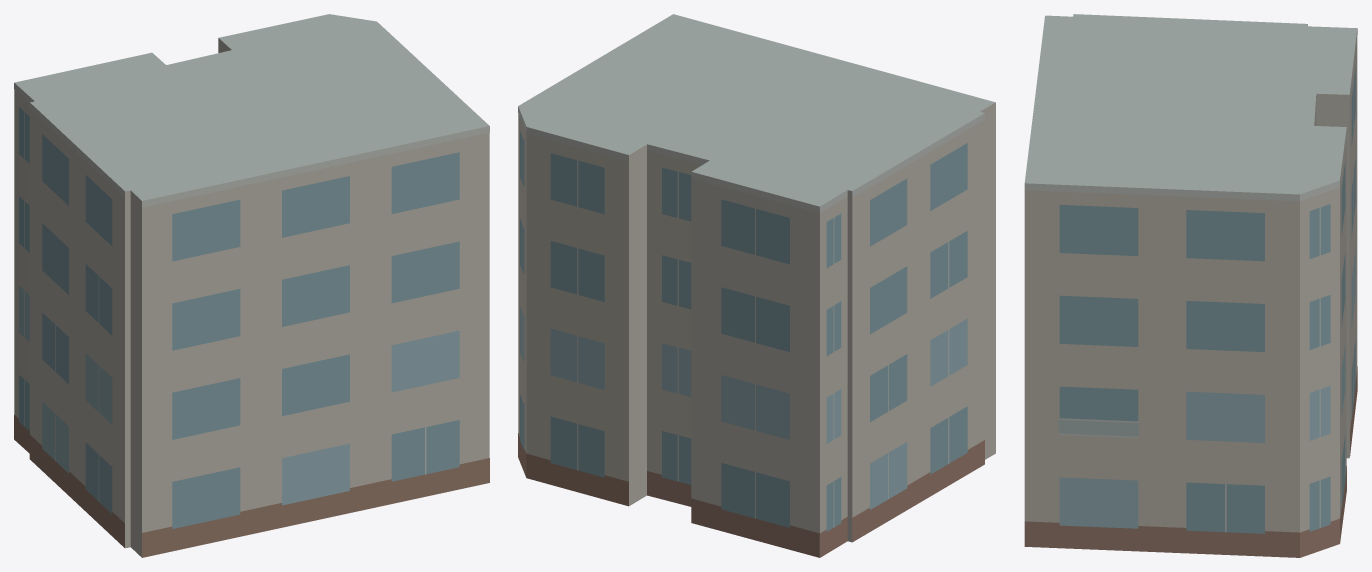
Rendered from survey-upis-32808335.glb.
3 views of the same model, side by side, from view 1: azimuth 30°, elevation 25°; view 2: azimuth 150°, elevation 25°; view 3: azimuth 270°, elevation 25° (orthographic). The views are drawn at different scales.
Visible parts, largest first — view 1: survey-upis-32808335.tmp; view 2: survey-upis-32808335.tmp; view 3: survey-upis-32808335.tmp.
Boxes of the visible parts, box(x1,y1,x2,y2) form: survey-upis-32808335.tmp: box(14, 14, 489, 557); survey-upis-32808335.tmp: box(518, 14, 995, 557); survey-upis-32808335.tmp: box(1024, 14, 1357, 557).
Bounding box in the file's own units: 13.8 × 12.95 × 10.76.
